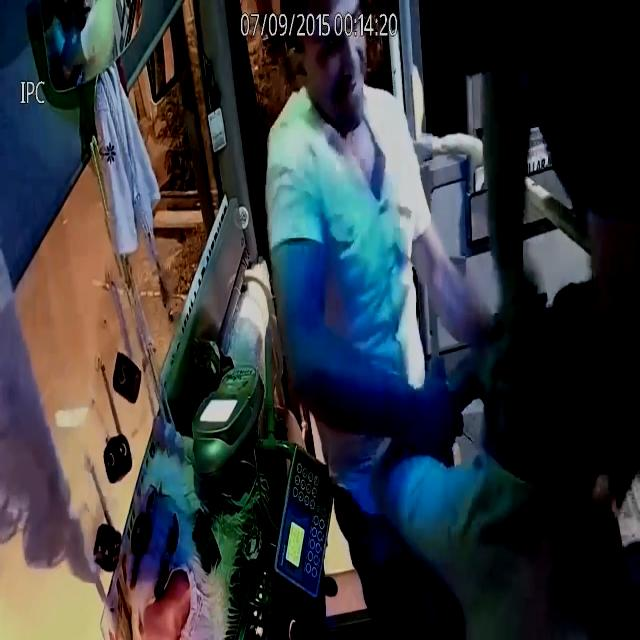fight: (252, 2, 640, 634)
